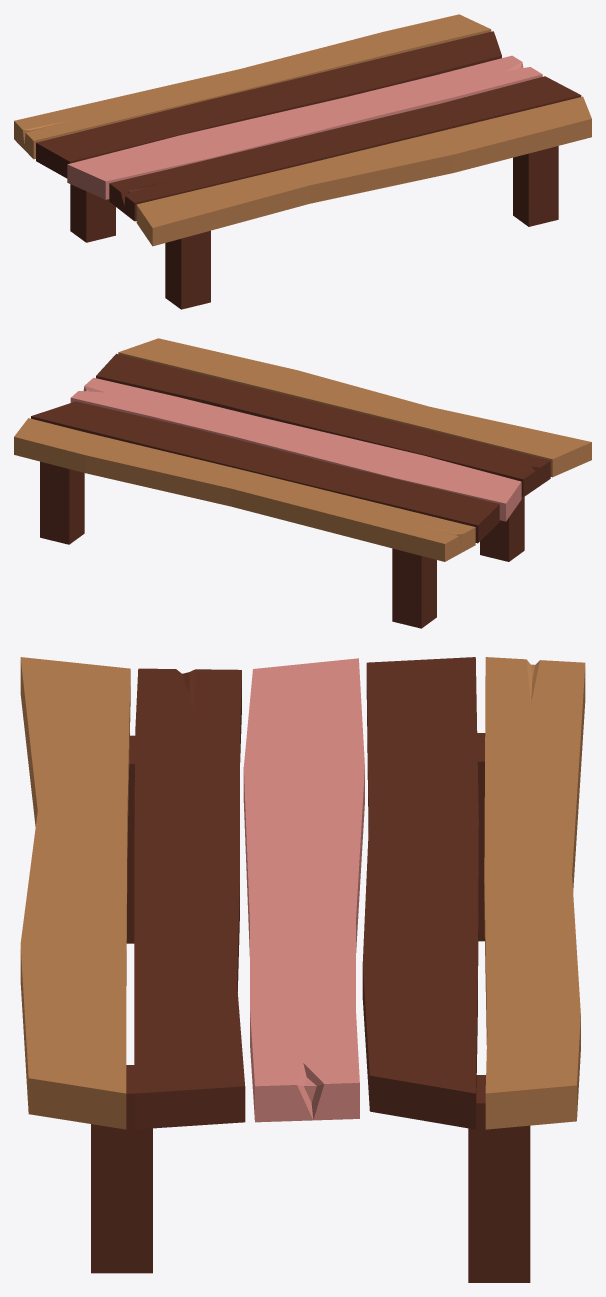
Rendered from Mesa.fbx.
3 renders of one model, top to bottom at view 1: azimuth 30°, elevation 25°; view 2: azimuth 150°, elevation 25°; view 3: azimuth 270°, elevation 25°, orthographic. The views are drawn at different scales.
Visible parts, largest first — view 1: Cube.008; view 2: Cube.008; view 3: Cube.008.
Boxes of the visible parts, box(x1,y1,x2,y2) form: Cube.008: box(14, 14, 591, 309); Cube.008: box(14, 338, 591, 628); Cube.008: box(20, 657, 585, 1282).
Size of the model in its own units: 155 by 35.62 by 84.97.
